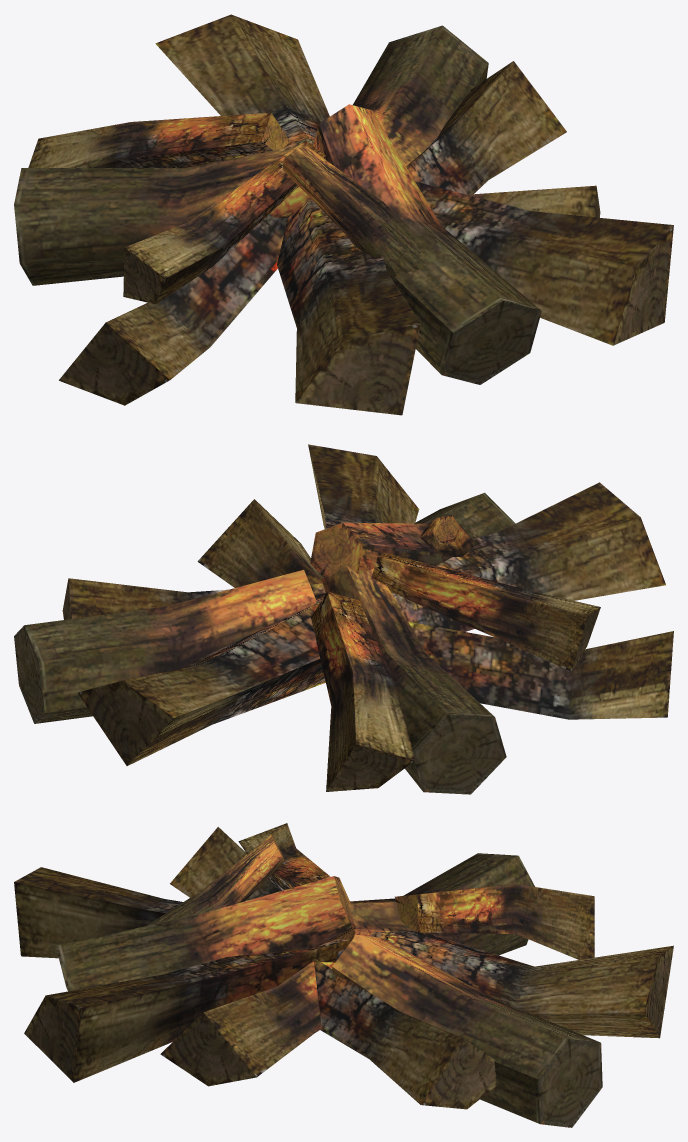
The model's file is gouhuo.FBX.
3 views of the same model, one above another, from view 1: azimuth 30°, elevation 25°; view 2: azimuth 150°, elevation 25°; view 3: azimuth 270°, elevation 25° (orthographic). The views are drawn at different scales.
Parts seen in each view (by area): view 1: DrawCall_0111; view 2: DrawCall_0111; view 3: DrawCall_0111.
Boxes of the visible parts, box(x1,y1,x2,y2) form: DrawCall_0111: box(14, 14, 673, 415); DrawCall_0111: box(14, 444, 673, 794); DrawCall_0111: box(14, 823, 673, 1127).
Bounding box in the file's own units: 151 × 46.38 × 164.
